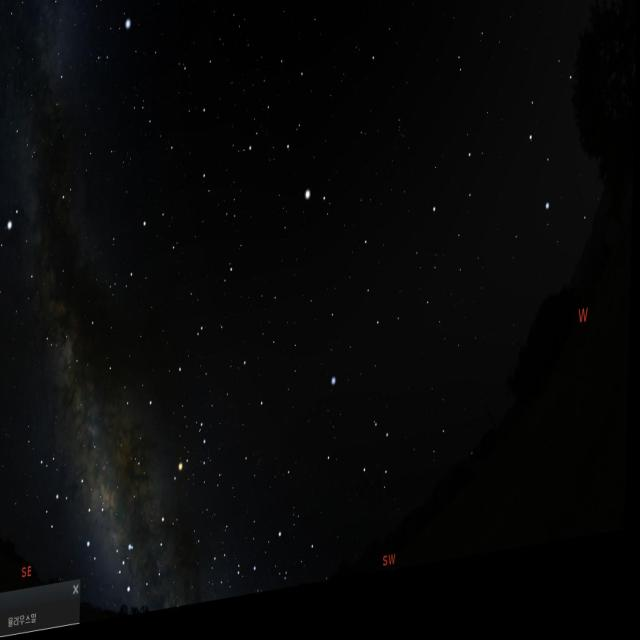aquila: (0, 181, 80, 375)
bootes: (252, 47, 344, 260)
leo: (424, 80, 583, 274)
lyra: (86, 8, 136, 86)
sagittarius: (36, 450, 122, 580)
scorpius: (117, 418, 220, 610)
